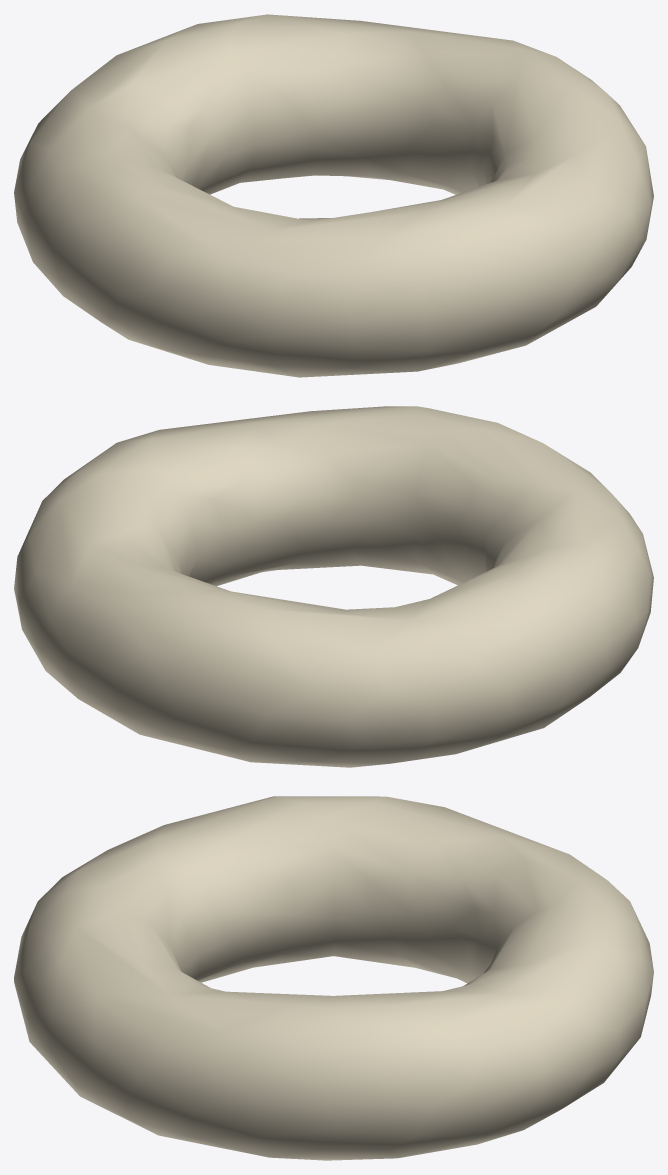
Rendered from lifebuoy.FBX.
3 views of the same model, one above another, from view 1: azimuth 30°, elevation 25°; view 2: azimuth 150°, elevation 25°; view 3: azimuth 270°, elevation 25° (orthographic).
Visible parts, largest first — view 1: Torus01; view 2: Torus01; view 3: Torus01.
Boxes of the visible parts, x1,y1,x2,y2 form: Torus01: [14, 14, 653, 377]; Torus01: [14, 406, 653, 767]; Torus01: [14, 796, 653, 1160].
Size of the model in its own units: 1127 by 293 by 1127.
